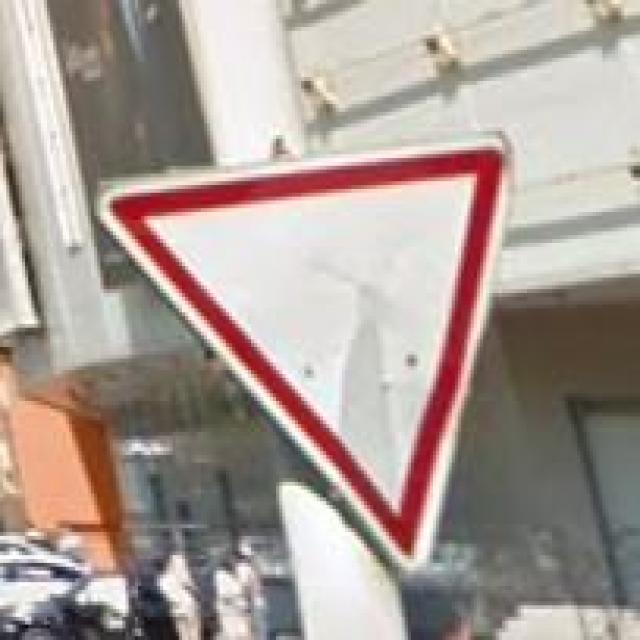traffic_sign: (94, 131, 518, 578)
